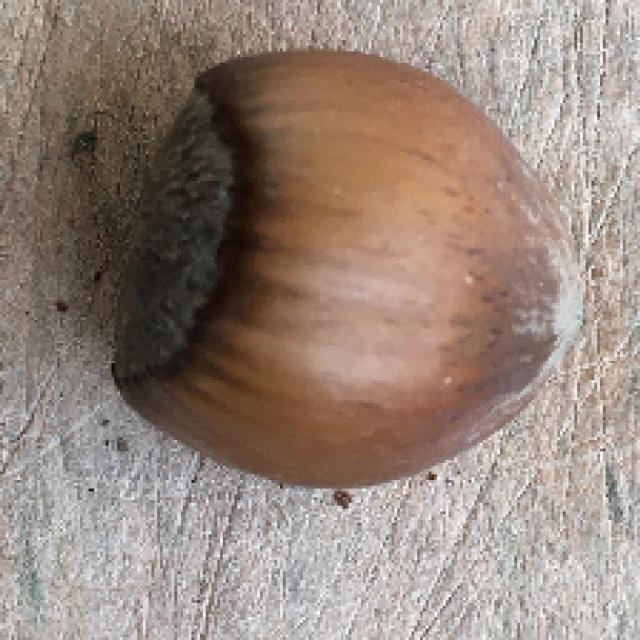qualityHazelnut: (119, 42, 584, 487)
